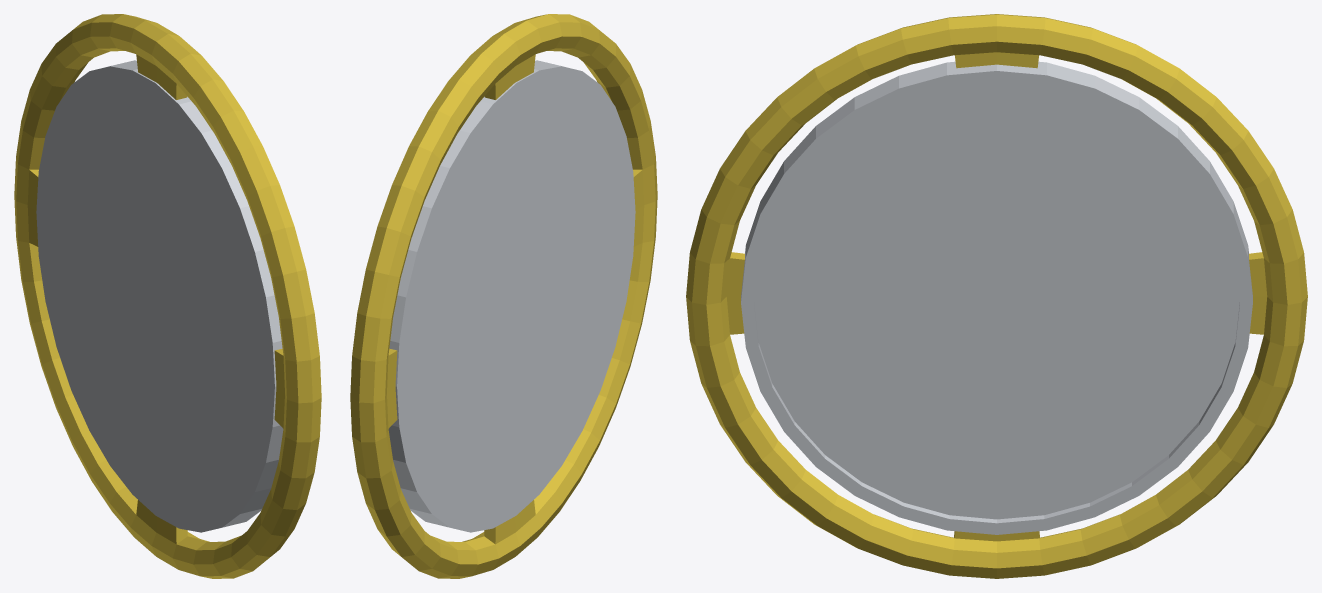
File: stand.gltf
3 views of the same model, side by side, from view 1: azimuth 30°, elevation 25°; view 2: azimuth 150°, elevation 25°; view 3: azimuth 270°, elevation 25° (orthographic). The views are drawn at different scales.
Visible parts, largest first — view 1: Torus.003; view 2: Torus.003; view 3: Torus.003.
Boxes of the visible parts, x1=… form: Torus.003: x1=14, y1=14, x2=321, y2=578; Torus.003: x1=350, y1=14, x2=657, y2=578; Torus.003: x1=686, y1=14, x2=1307, y2=578.
Size of the model in its own units: 0.14 by 2.14 by 2.14.
